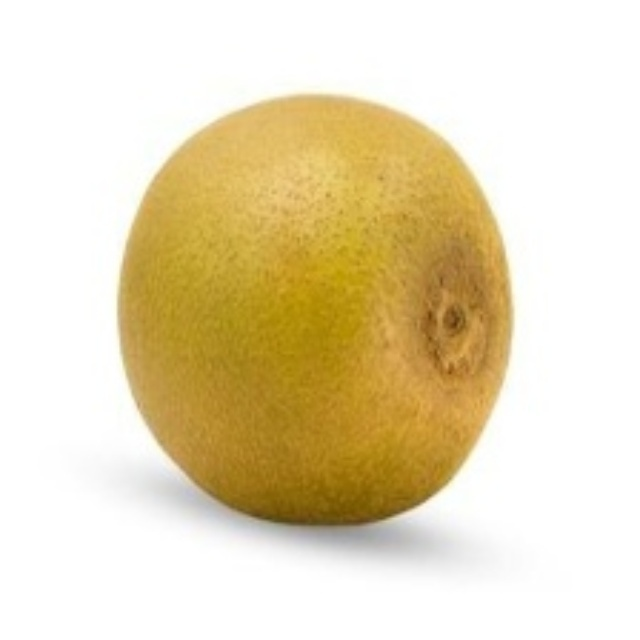kiwi: (120, 89, 512, 531)
